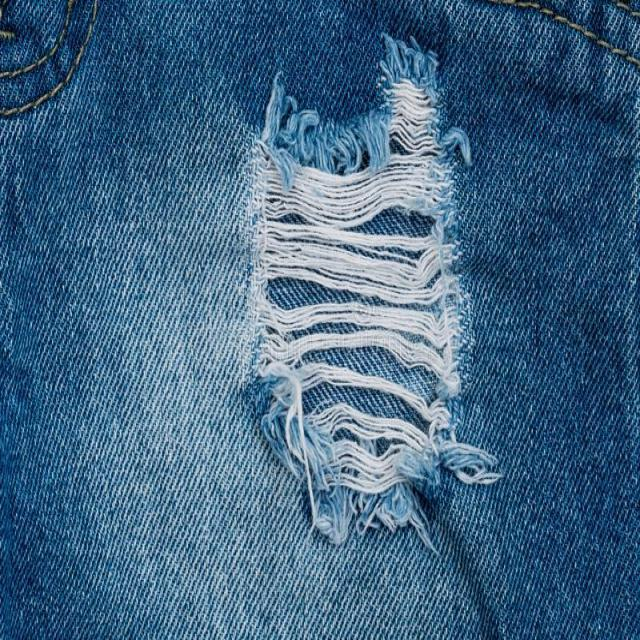Hole: (253, 39, 501, 544)
